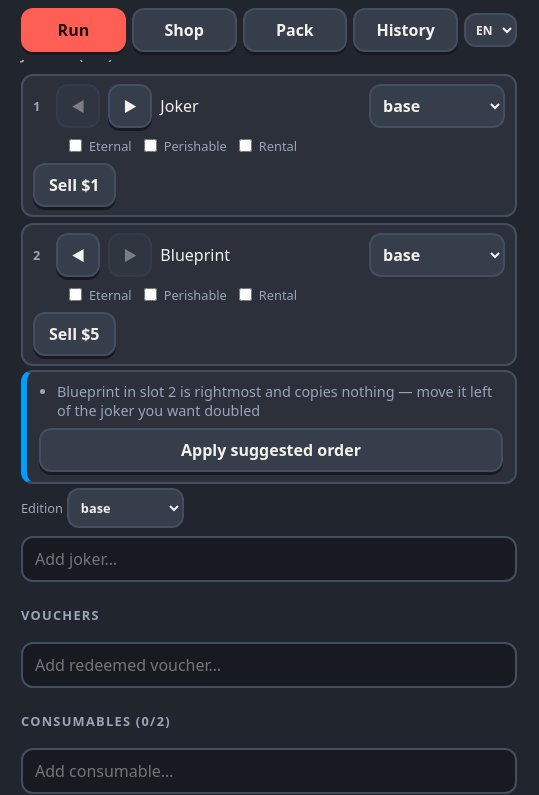
Test case: adds a sixth joker to a full board when it is Negative
(page scrolled)
Type "madness" into the dropdown with placeholder "Add joker…". click: point(269, 559)
box: [21,536,517,582]
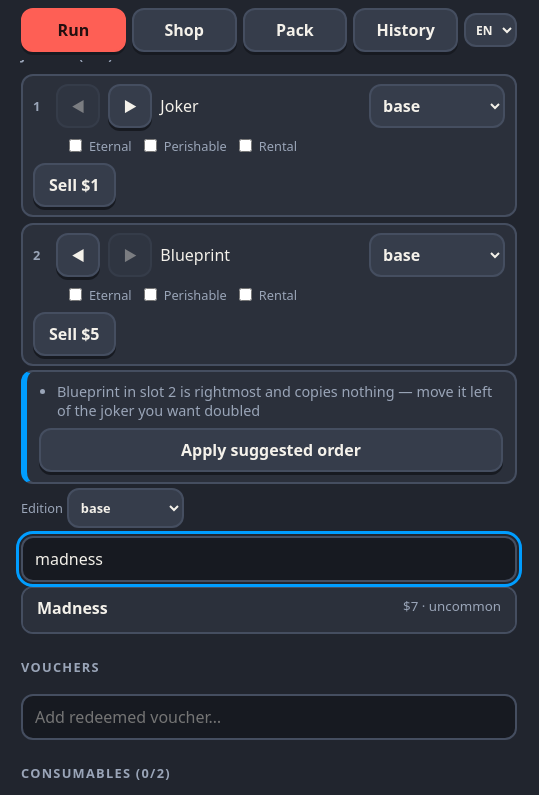
Click the button "Madness $7 · uncommon". click: point(72, 608)
box: [23,588,515,632]
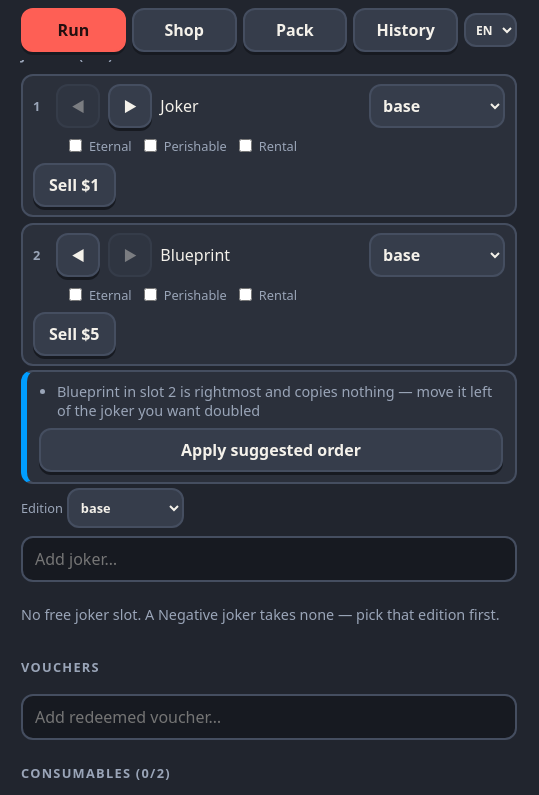
Now the text "No free joker slot" is shown, box [21,605,500,624]
Now the button "Madness" is gone
Select "negative" in the dropdown named "Edition of the joker being added". click: point(125, 508)
box: [67,488,184,528]
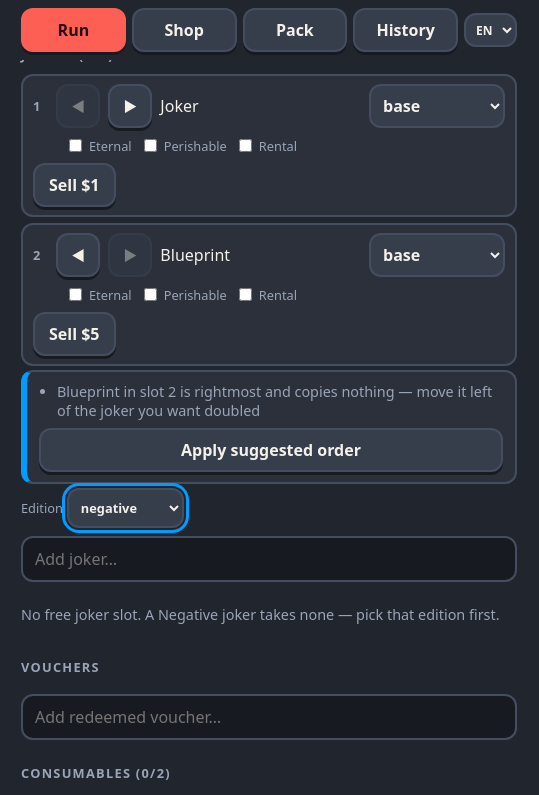
Type "madness" into the dropdown with placeholder "Add joker…". click: point(269, 559)
box: [21,536,517,582]
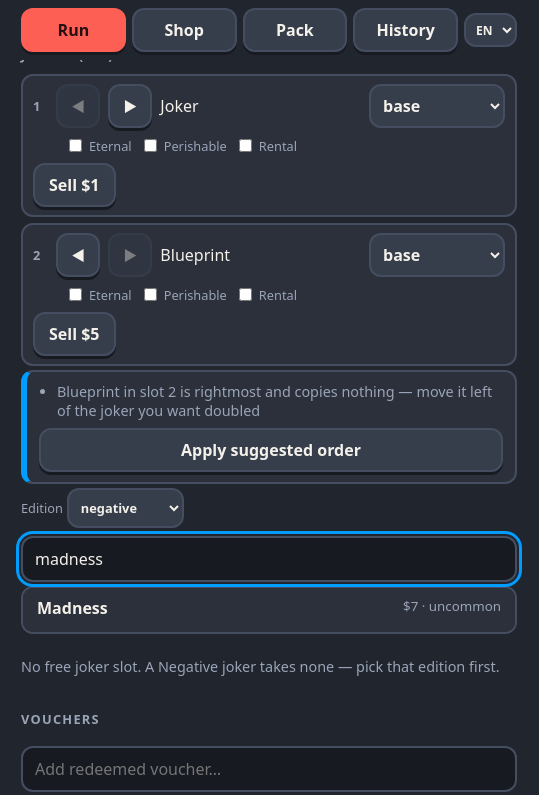
Click the button "Madness $7 · uncommon". click: point(72, 608)
box: [23,588,515,632]
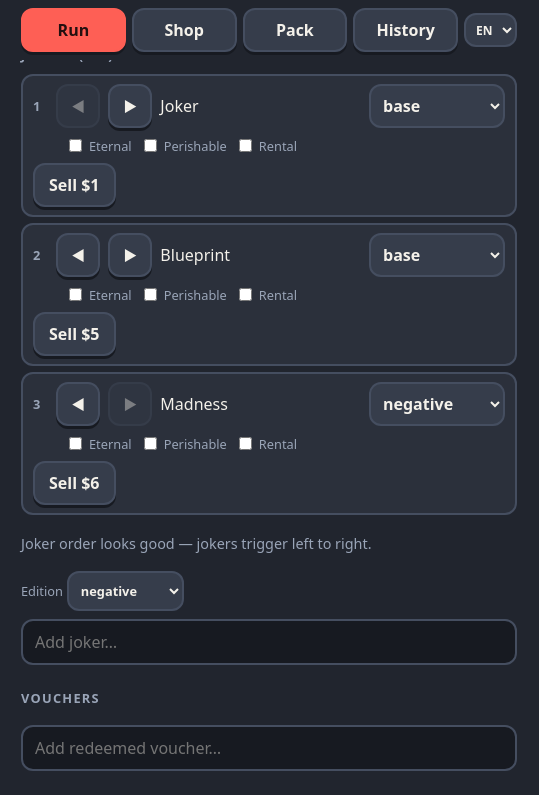
Now the text "Madness" is shown, box [160,393,228,415]
